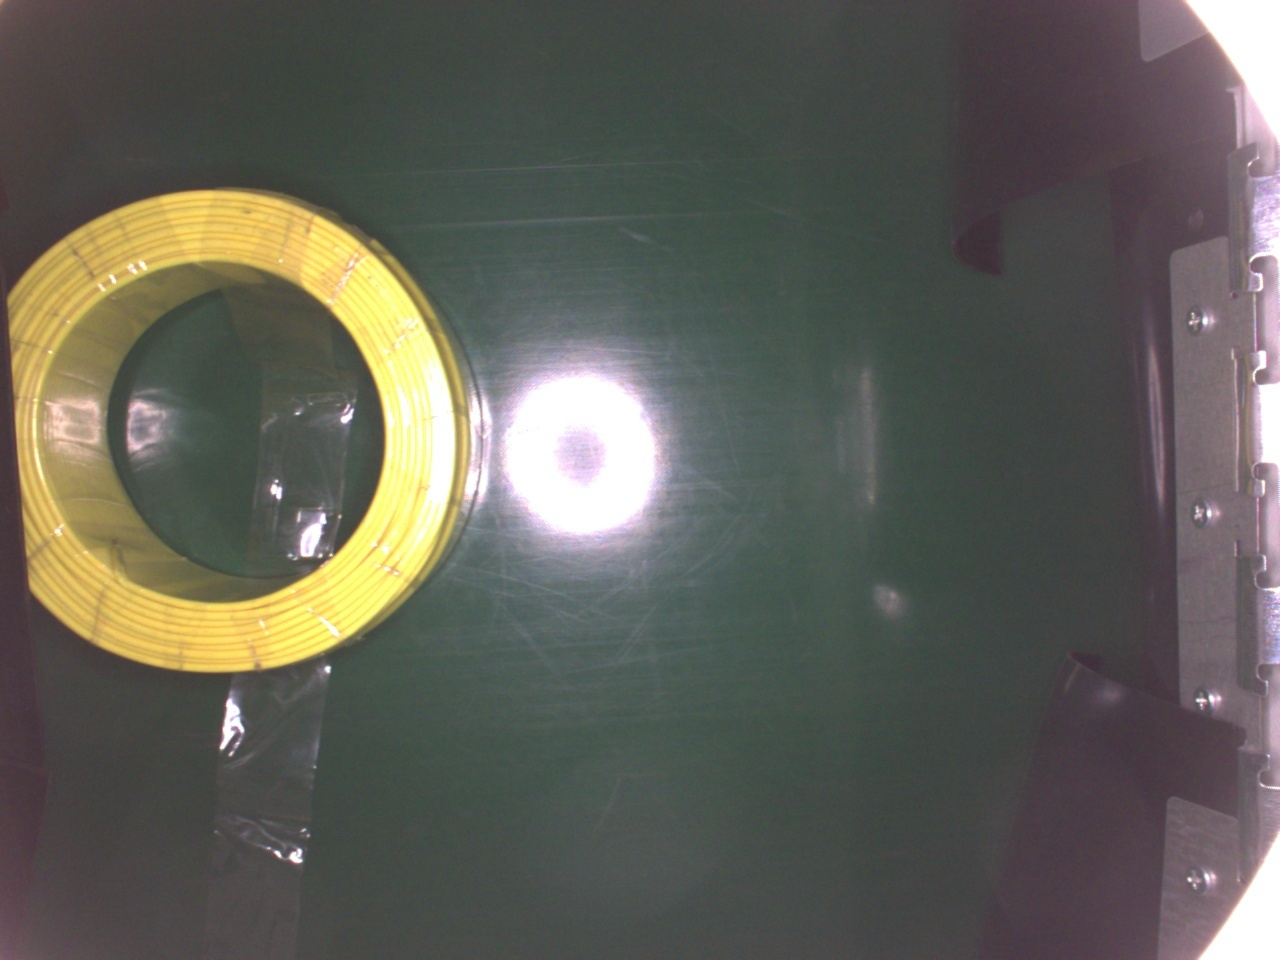yellow: (8, 188, 479, 675)
